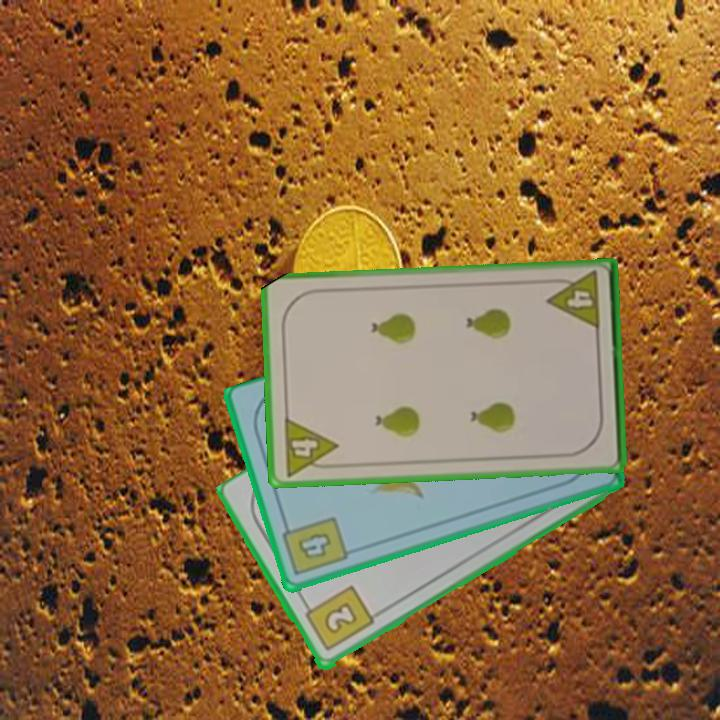2b: (299, 582, 377, 655)
4b: (279, 513, 351, 579)
4p: (280, 414, 341, 479), (544, 268, 603, 333)
